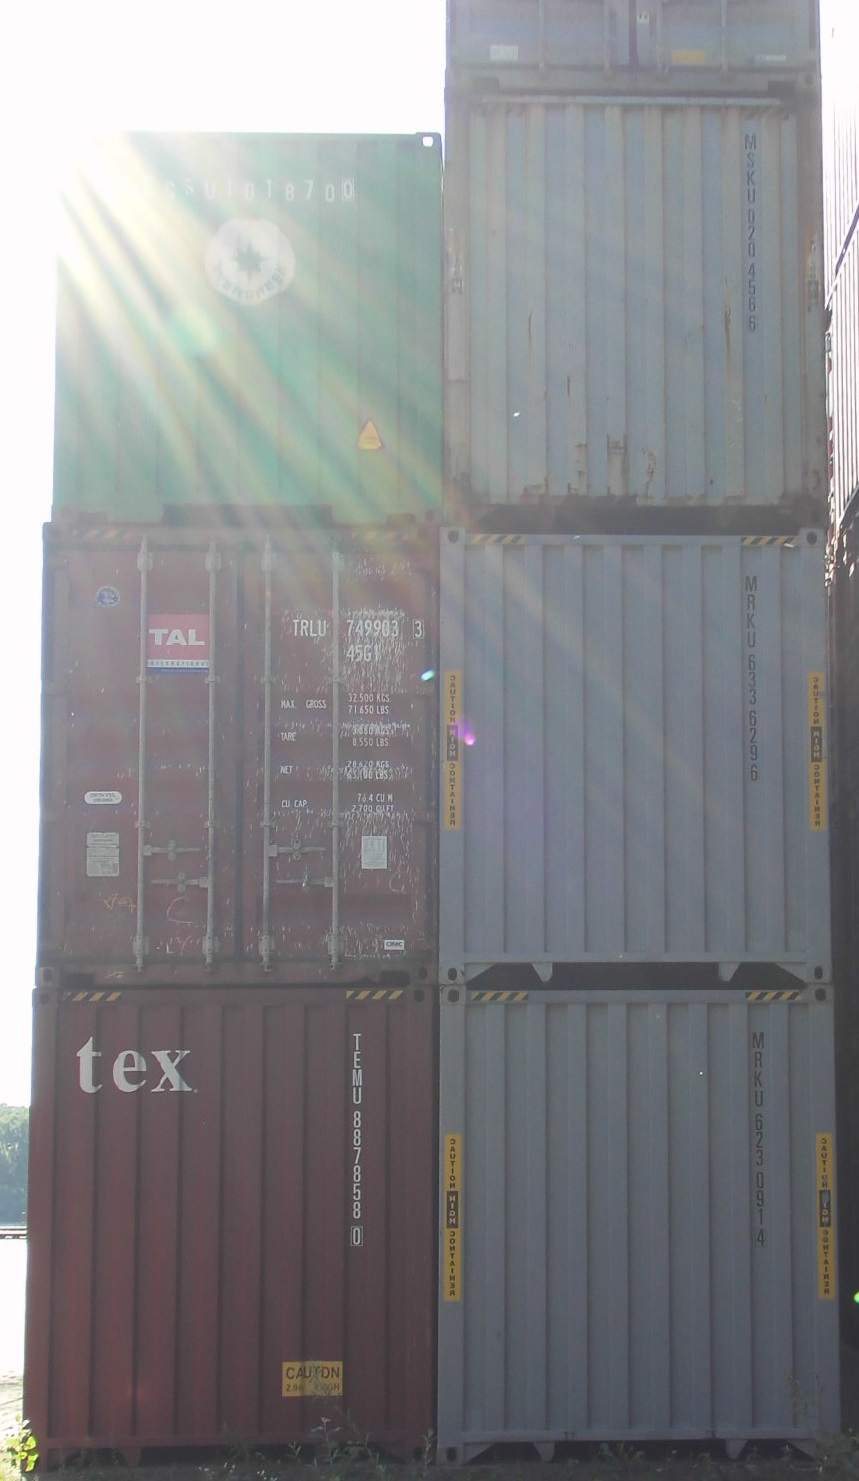container_no_door: (436, 978, 842, 1462), (29, 974, 435, 1457), (40, 526, 433, 988), (436, 90, 833, 533), (433, 537, 829, 980), (50, 128, 440, 520)
